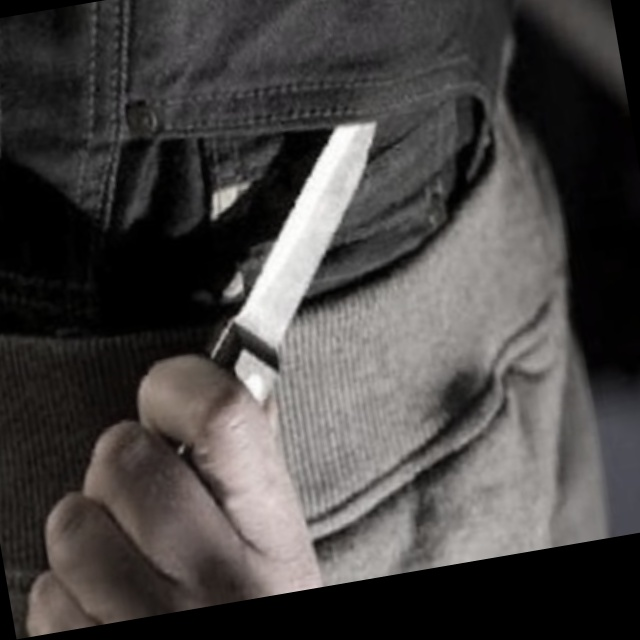Sharp-Object: (133, 121, 430, 458)
